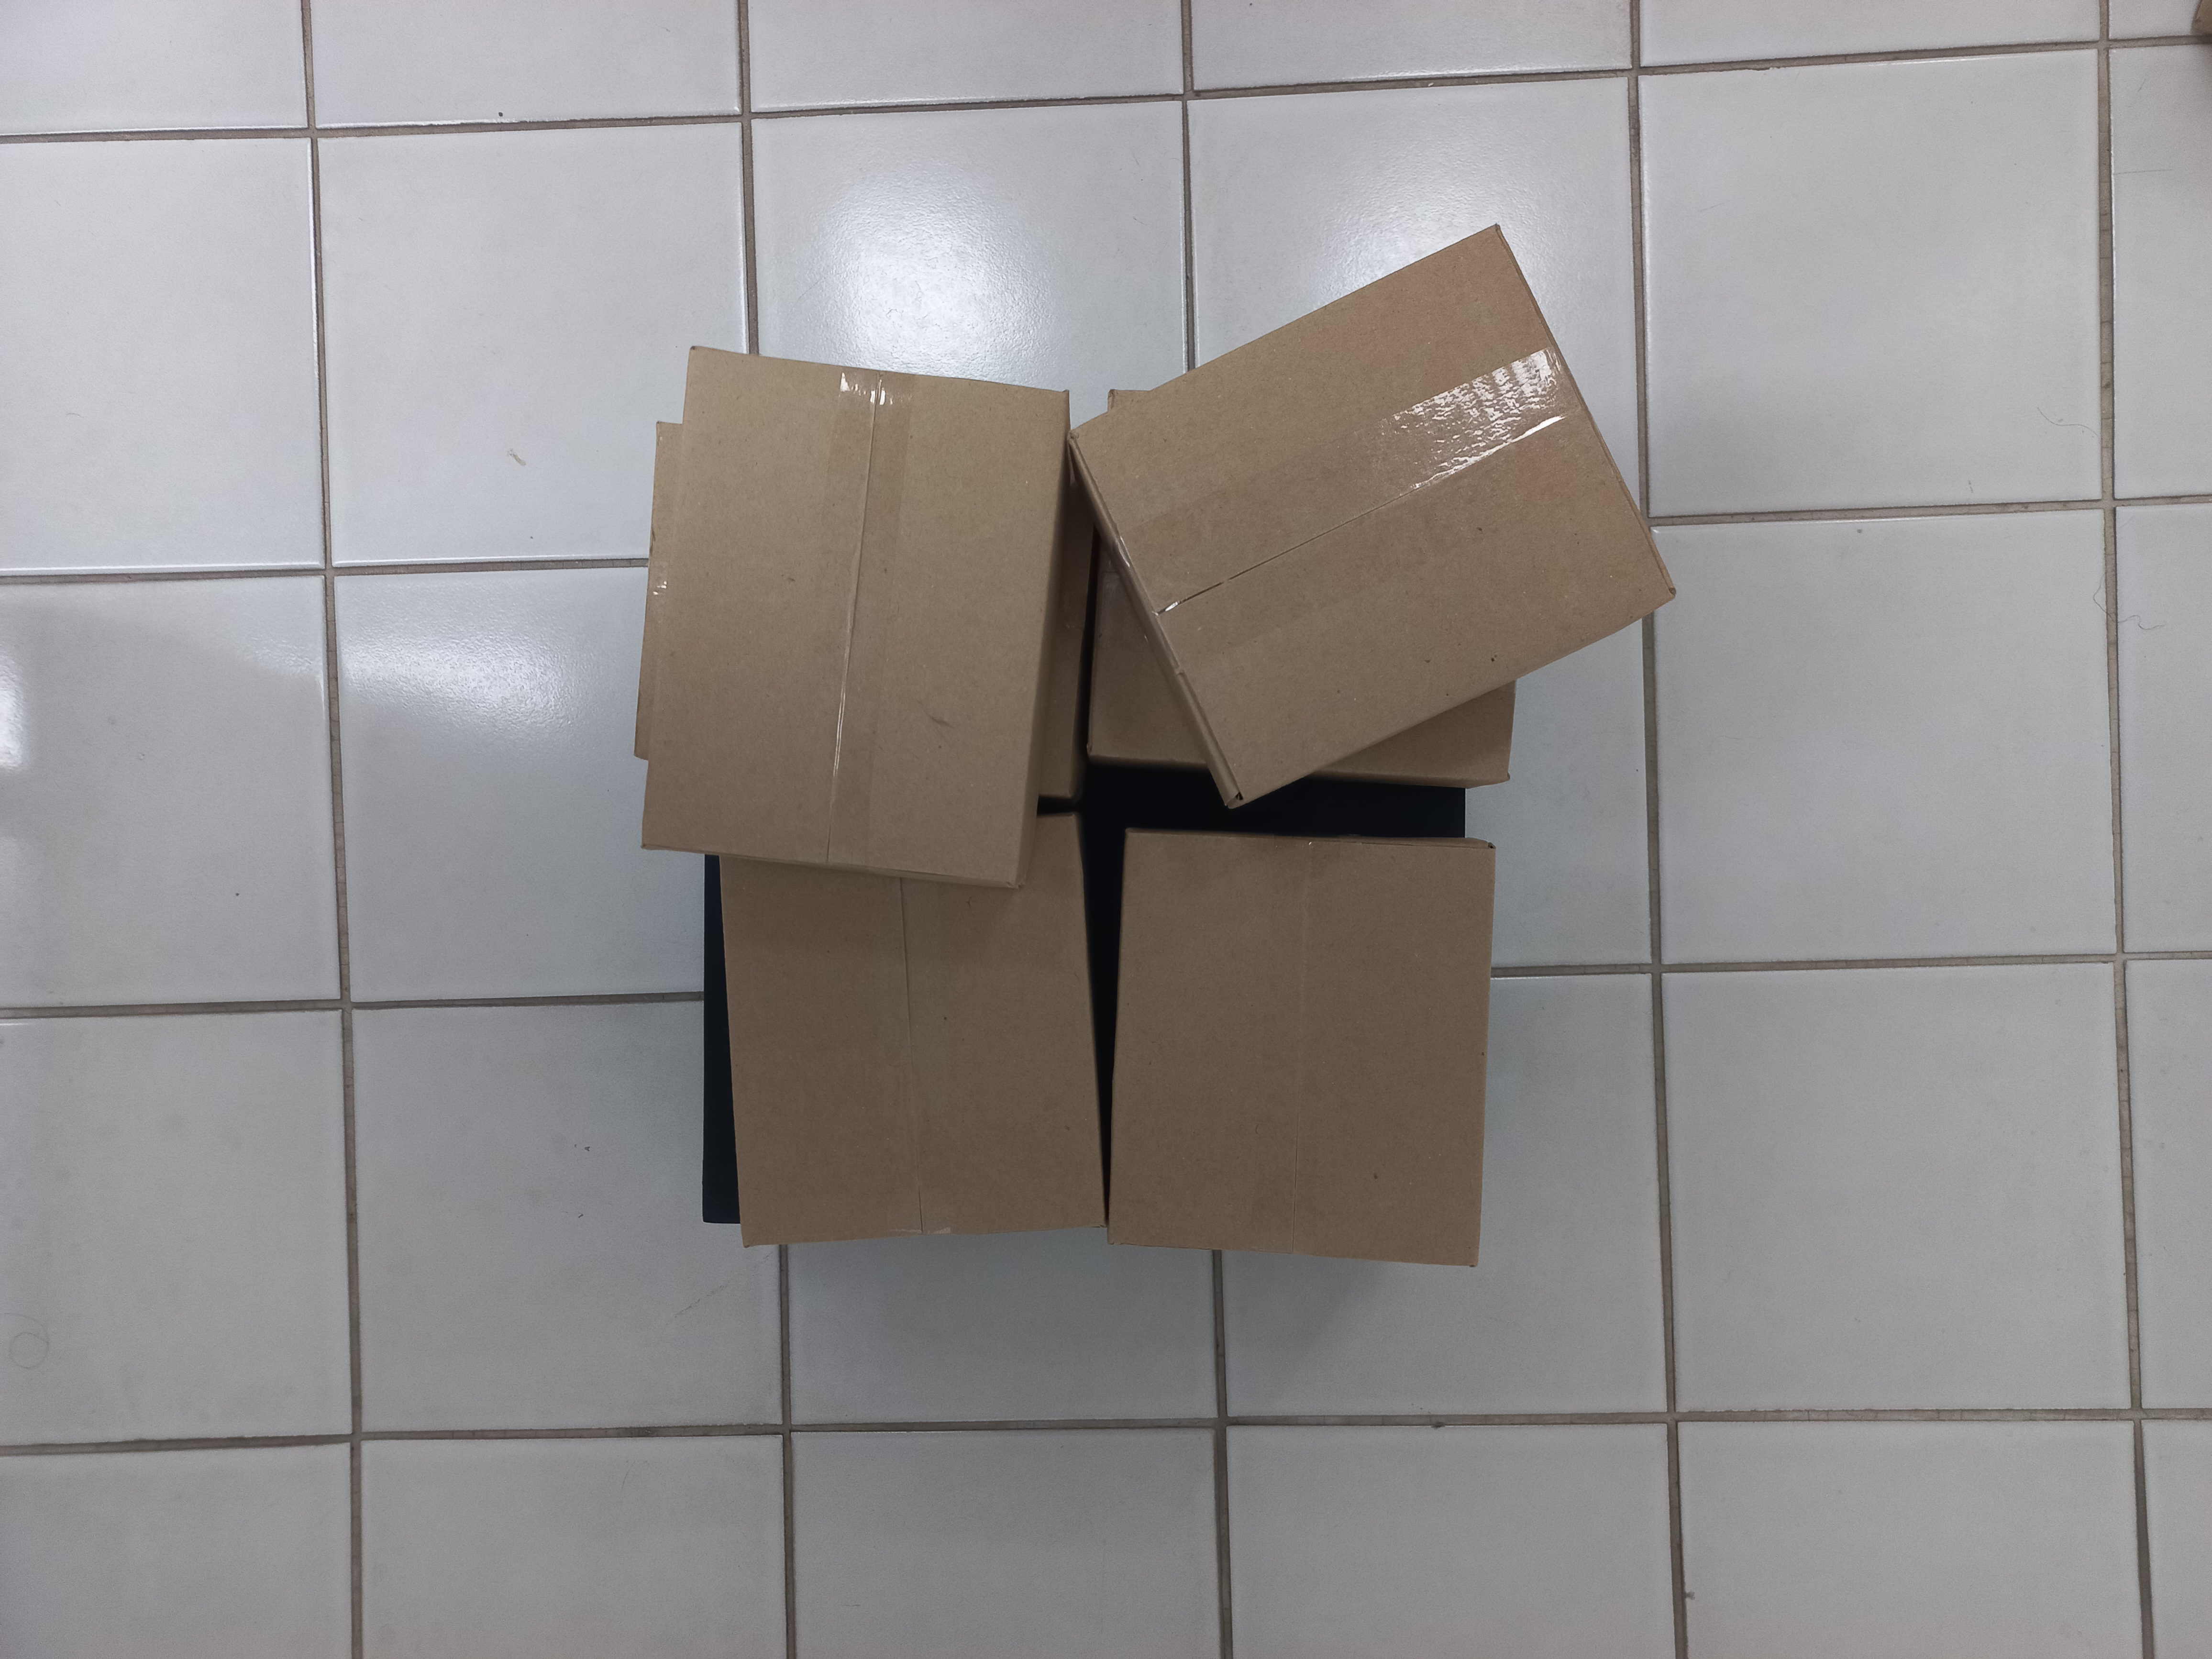box: (1071, 211, 1674, 814), (632, 343, 1069, 894), (1101, 817, 1505, 1279)
